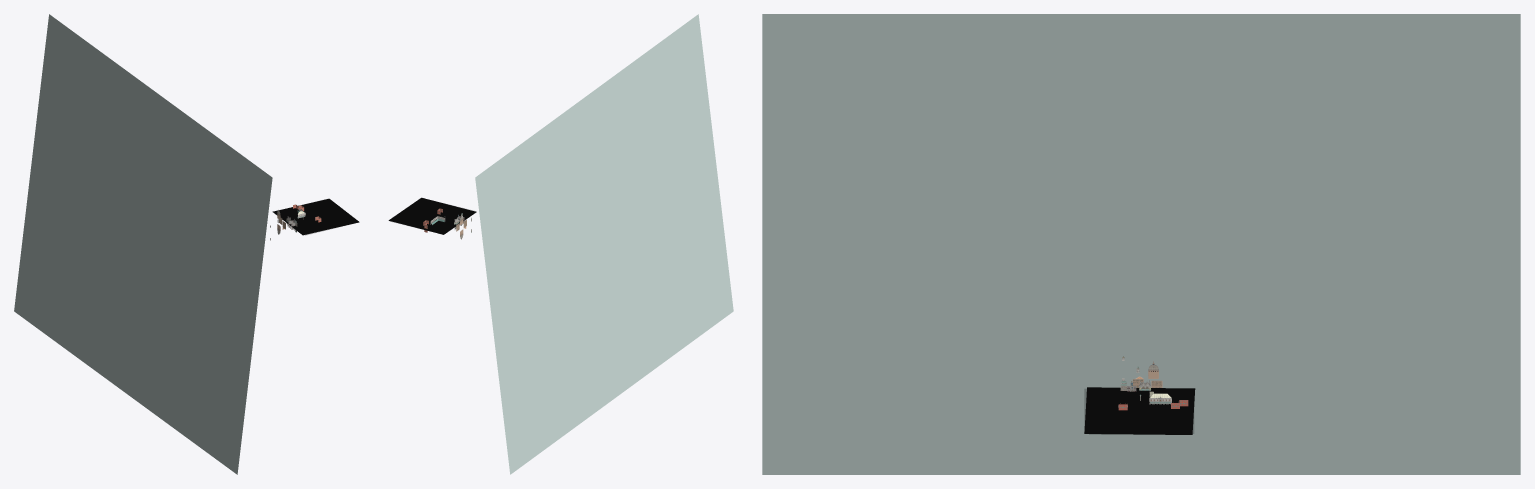
File: venezia_wip.dae
3 renders of one model, left to right at view 1: azimuth 30°, elevation 25°; view 2: azimuth 150°, elevation 25°; view 3: azimuth 270°, elevation 25°, orthographic. The views are drawn at different scales.
Visible parts, largest first — view 1: pPlane65, pPlane66; view 2: pPlane65, pPlane66; view 3: pPlane65, pPlane66.
Part boxes in pixels (bbox=[...]): pPlane65: bbox=[14, 14, 272, 474]; pPlane66: bbox=[272, 198, 359, 235]; pPlane65: bbox=[475, 14, 733, 474]; pPlane66: bbox=[388, 197, 476, 234]; pPlane65: bbox=[762, 14, 1520, 474]; pPlane66: bbox=[1084, 387, 1195, 434].
Bounding box in the file's own units: 2264 × 2858 × 4008.
